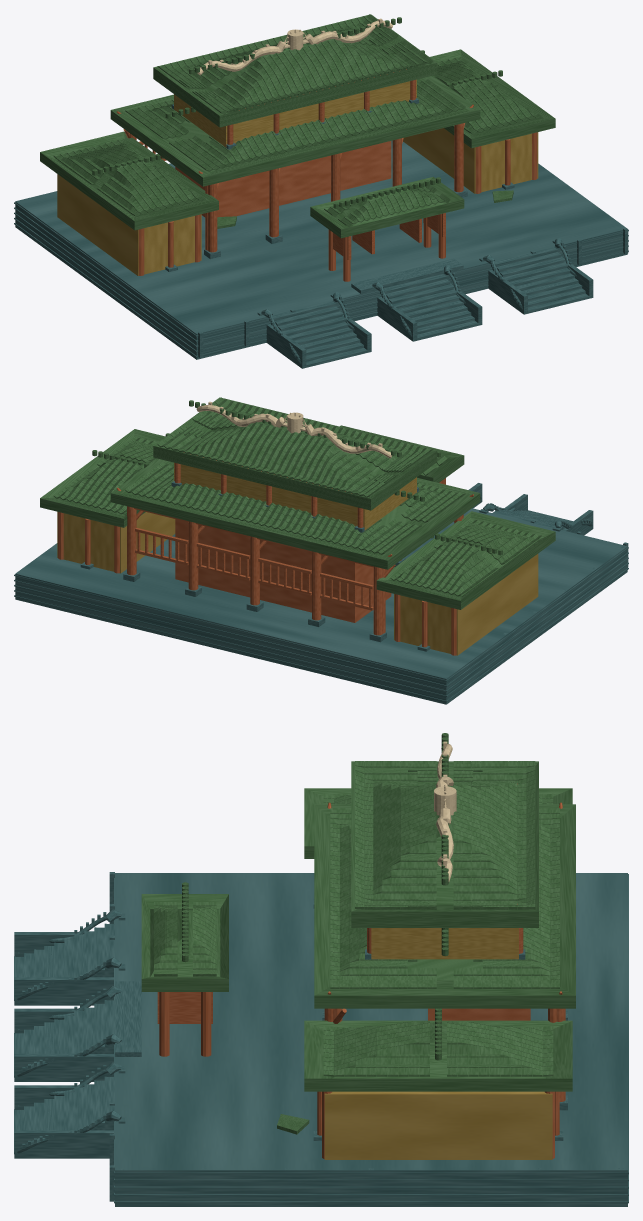
The picture shows the model from 3 angles, top to bottom: view 1: azimuth 30°, elevation 25°; view 2: azimuth 150°, elevation 25°; view 3: azimuth 270°, elevation 25°; orthographic projection. The views are drawn at different scales.
Visible parts, largest first — view 1: garrison_part_0000, garrison_part_0004, garrison_part_0005, garrison_part_0001, garrison_part_0003, garrison_part_0006, garrison_part_0002; view 2: garrison_part_0000, garrison_part_0004, garrison_part_0001, garrison_part_0005, garrison_part_0003, garrison_part_0006; view 3: garrison_part_0000, garrison_part_0004, garrison_part_0005, garrison_part_0003, garrison_part_0001, garrison_part_0002, garrison_part_0006.
Boxes of the visible parts, box(x1,y1,x2,y2) form: garrison_part_0000: box(14, 140, 628, 368); garrison_part_0004: box(40, 14, 555, 238); garrison_part_0005: box(57, 16, 587, 363); garrison_part_0001: box(123, 69, 467, 258); garrison_part_0003: box(57, 125, 538, 275); garrison_part_0006: box(138, 132, 537, 281); garrison_part_0002: box(217, 190, 584, 367); garrison_part_0000: box(14, 483, 628, 704); garrison_part_0004: box(40, 397, 555, 609); garrison_part_0001: box(123, 452, 463, 642); garrison_part_0005: box(57, 397, 592, 593); garrison_part_0003: box(57, 508, 538, 655); garrison_part_0006: box(58, 478, 456, 655); garrison_part_0000: box(14, 872, 628, 1206); garrison_part_0004: box(141, 733, 575, 1091); garrison_part_0005: box(16, 741, 562, 1153); garrison_part_0003: box(324, 1008, 565, 1159); garrison_part_0001: box(322, 783, 567, 1110); garrison_part_0002: box(16, 924, 309, 1134); garrison_part_0006: box(157, 899, 563, 1158).
Bounding box in the file's own units: 1129 × 479 × 982.
